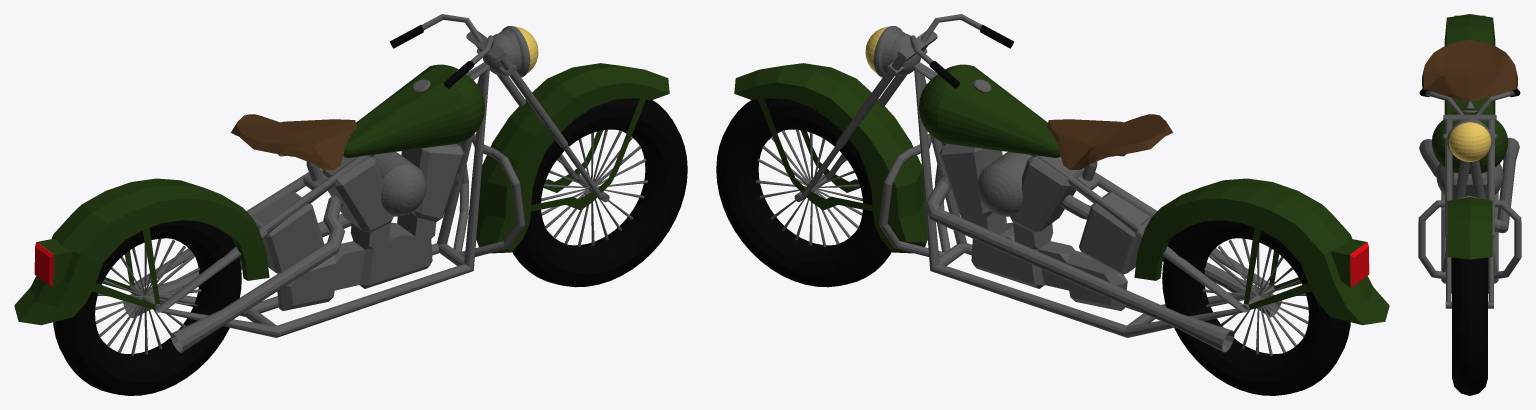
The model's file is low_poly_vintage_motorcycle.glb.
The picture shows the model from 3 angles, left to right: view 1: azimuth 30°, elevation 25°; view 2: azimuth 150°, elevation 25°; view 3: azimuth 270°, elevation 25°; orthographic projection. The views are drawn at different scales.
Visible parts, largest first — view 1: HarleyLowPoly_Before Texture Bake_With Roughness And Gloss.m; view 2: HarleyLowPoly_Before Texture Bake_With Roughness And Gloss.m; view 3: HarleyLowPoly_Before Texture Bake_With Roughness And Gloss.m.
Part boxes in pixels (box(x1,y1,x2,y2)): HarleyLowPoly_Before Texture Bake_With Roughness And Gloss.m: box(14, 14, 687, 395); HarleyLowPoly_Before Texture Bake_With Roughness And Gloss.m: box(716, 14, 1389, 395); HarleyLowPoly_Before Texture Bake_With Roughness And Gloss.m: box(1418, 14, 1521, 395).
Bounding box in the file's own units: 5.15 × 2.1 × 0.8104.
1 material, 1 textured.
